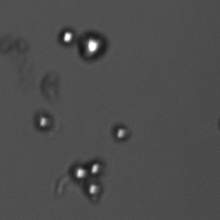Living Cell: (76, 26, 107, 62), (82, 178, 107, 203), (30, 110, 54, 133), (111, 120, 131, 143), (90, 155, 108, 177), (70, 163, 90, 182), (58, 26, 73, 50)
